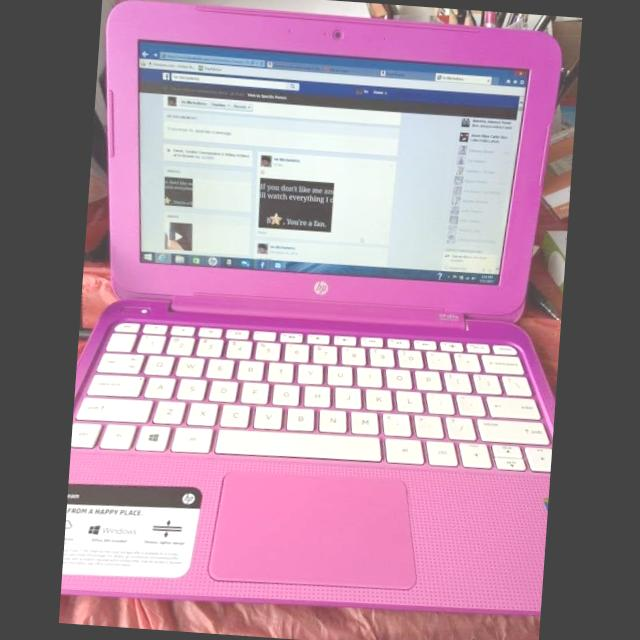laptop: (61, 0, 580, 610)
